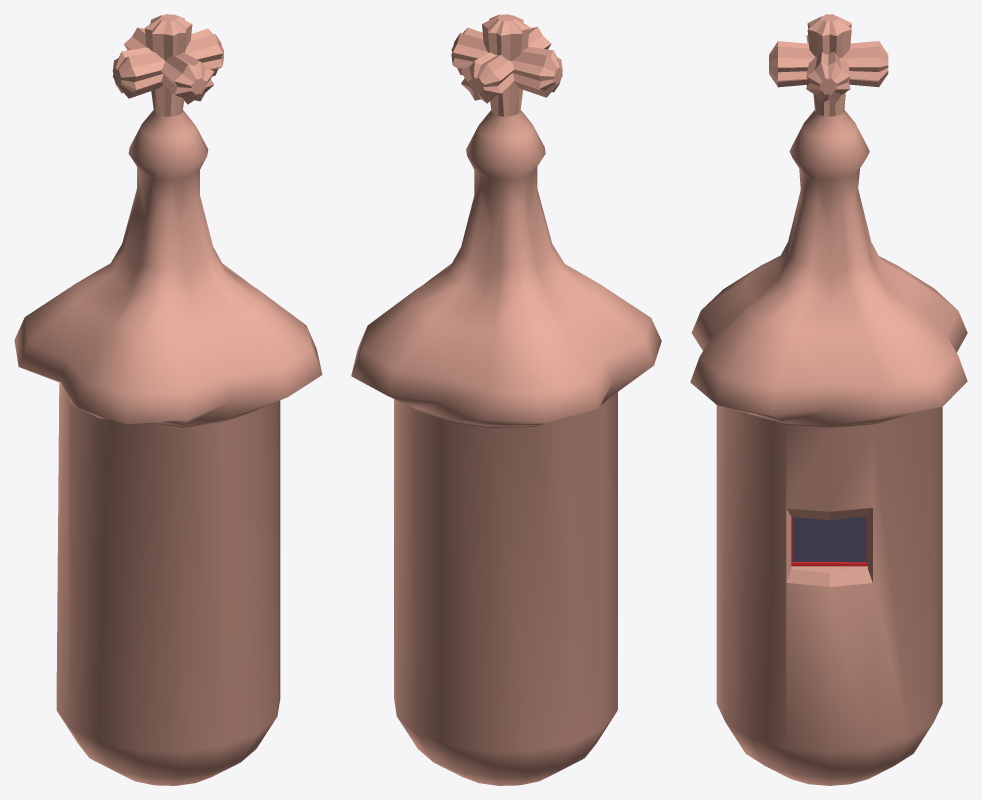
Rendered from tower_001.fbx.
3 views of the same model, side by side, from view 1: azimuth 30°, elevation 25°; view 2: azimuth 150°, elevation 25°; view 3: azimuth 270°, elevation 25° (orthographic).
Parts seen in each view (by area): view 1: finish.002; view 2: finish.002; view 3: finish.002.
Part boxes in pixels (bbox=[...]): finish.002: bbox=[14, 14, 322, 785]; finish.002: bbox=[351, 14, 661, 785]; finish.002: bbox=[690, 14, 967, 785].
Size of the model in its own units: 302 by 910 by 301.
